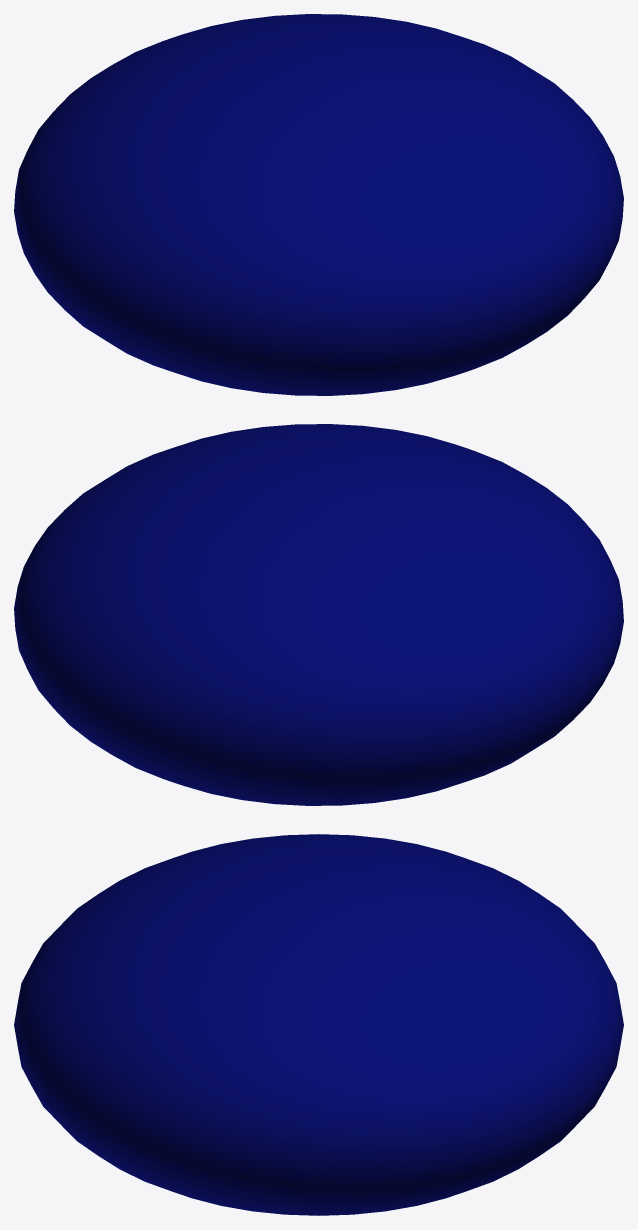
Rendered from Ellipsoid.fbx.
3 renders of one model, top to bottom at view 1: azimuth 30°, elevation 25°; view 2: azimuth 150°, elevation 25°; view 3: azimuth 270°, elevation 25°, orthographic.
Visible parts, largest first — view 1: node_id30; view 2: node_id30; view 3: node_id30.
Boxes of the visible parts, <box> form: node_id30: <box>14,14,623,395</box>; node_id30: <box>14,424,623,805</box>; node_id30: <box>14,834,623,1215</box>.
Bounding box in the file's own units: 0.512 × 0.2612 × 0.512.
1 material, 1 textured.
